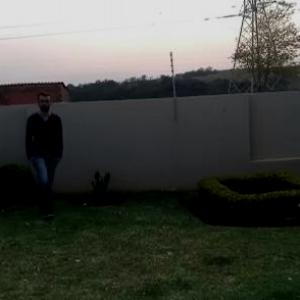follow: (25, 94, 74, 204)
